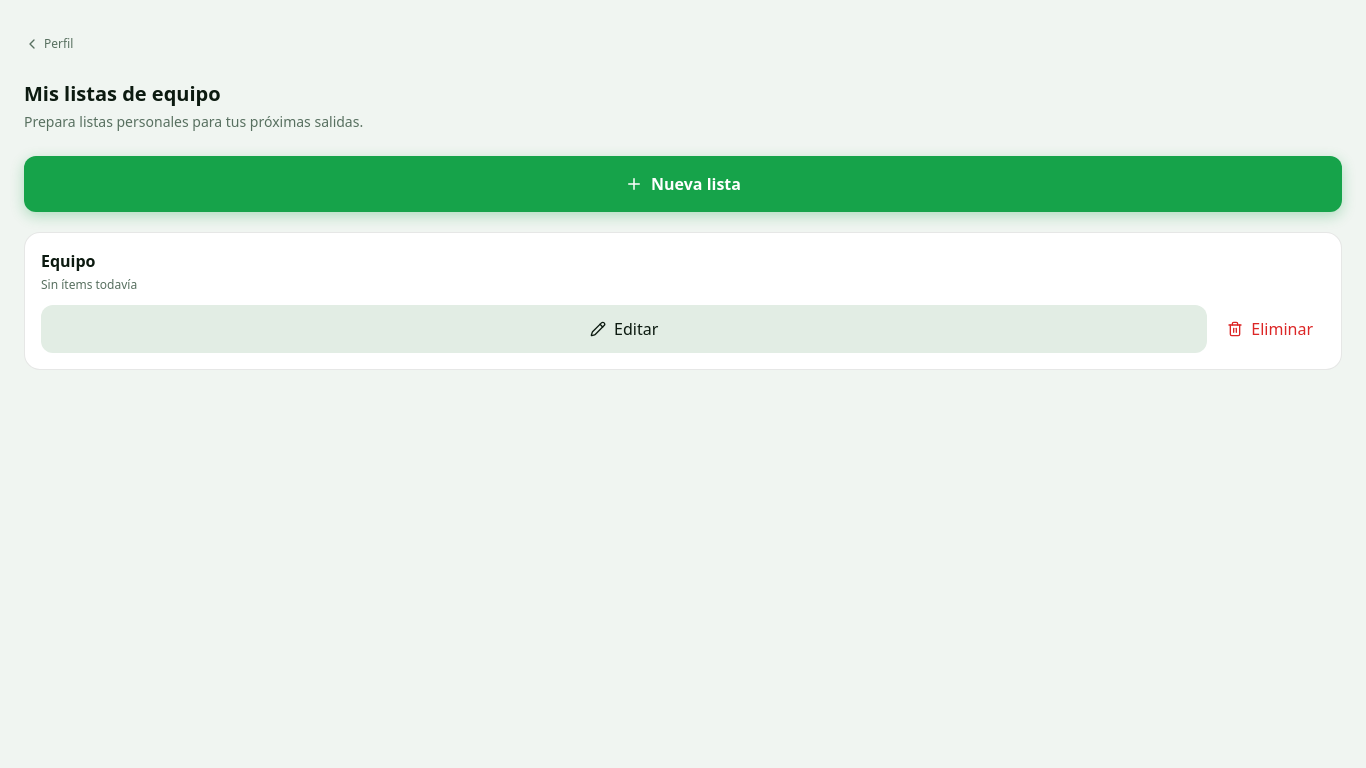
Scenario: Pantalla HU-30: React sin navegador › conserva el diálogo y los datos si falla la eliminación y permite reintentar
The image size is (1366, 768).
Later steps or results of the test are not shown.
Click the button "Eliminar" at (1270,329), box [1215,305,1325,353]
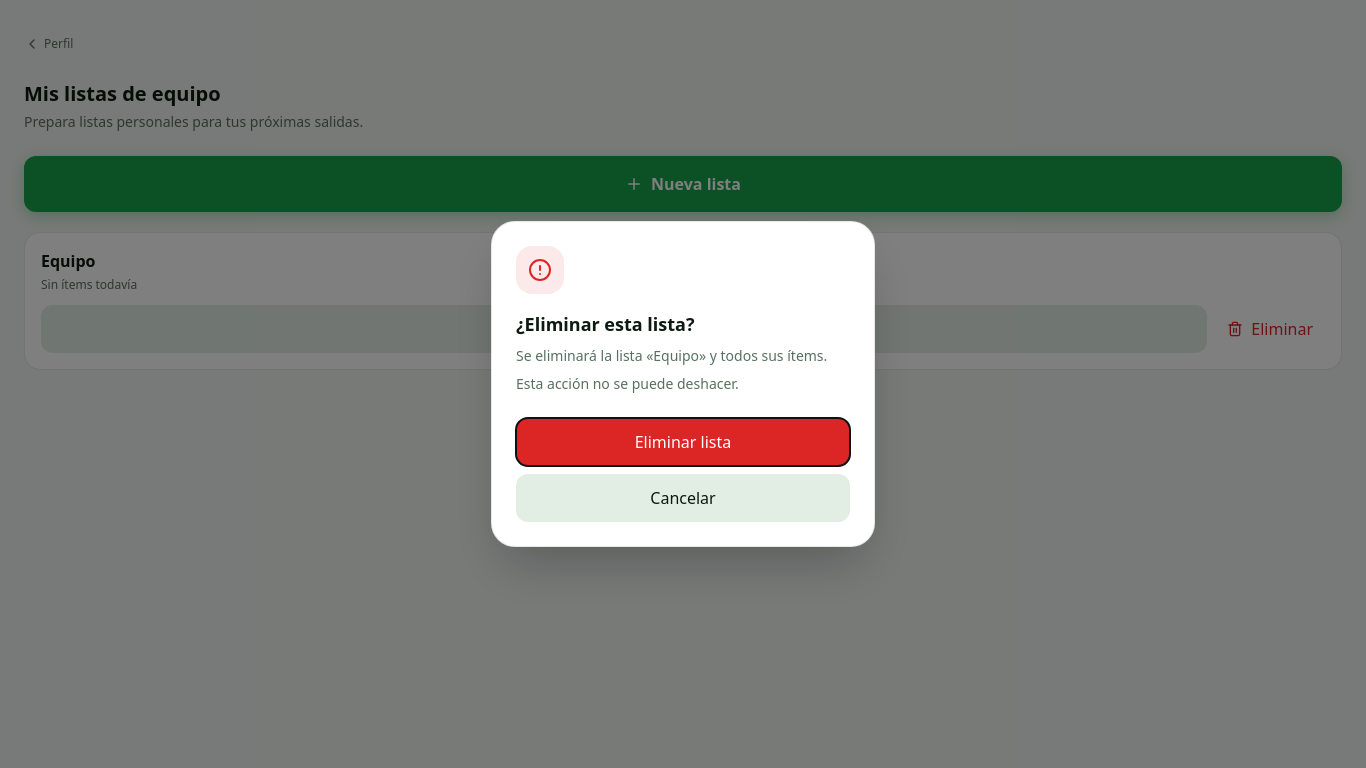
Click the button "Eliminar lista" at (683,442), box [516,418,850,466]
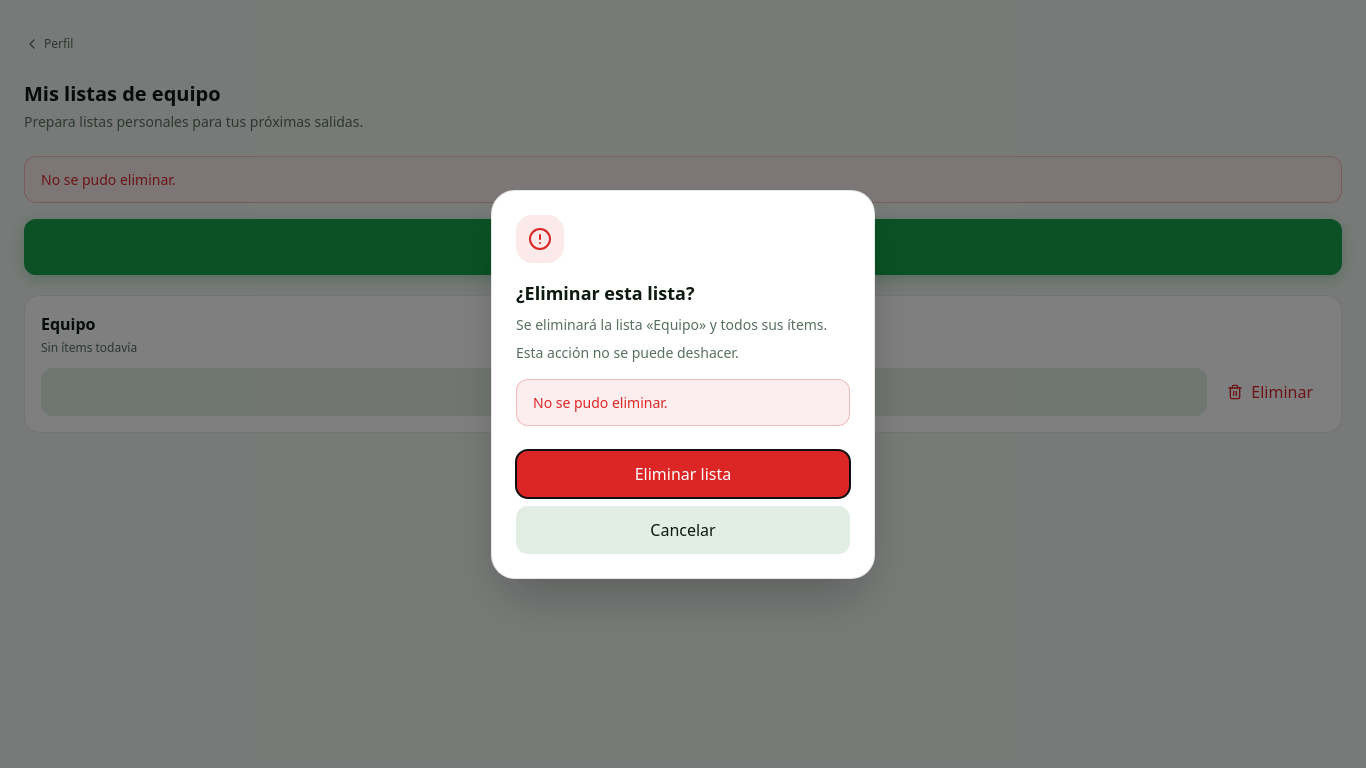
Expected: the text "No se pudo eliminar" is shown, [41,170,176,189]
